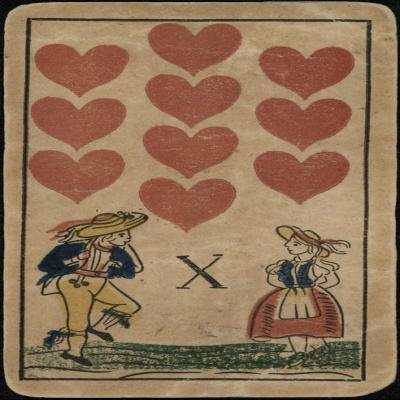dpi: (0, 1, 400, 400)
